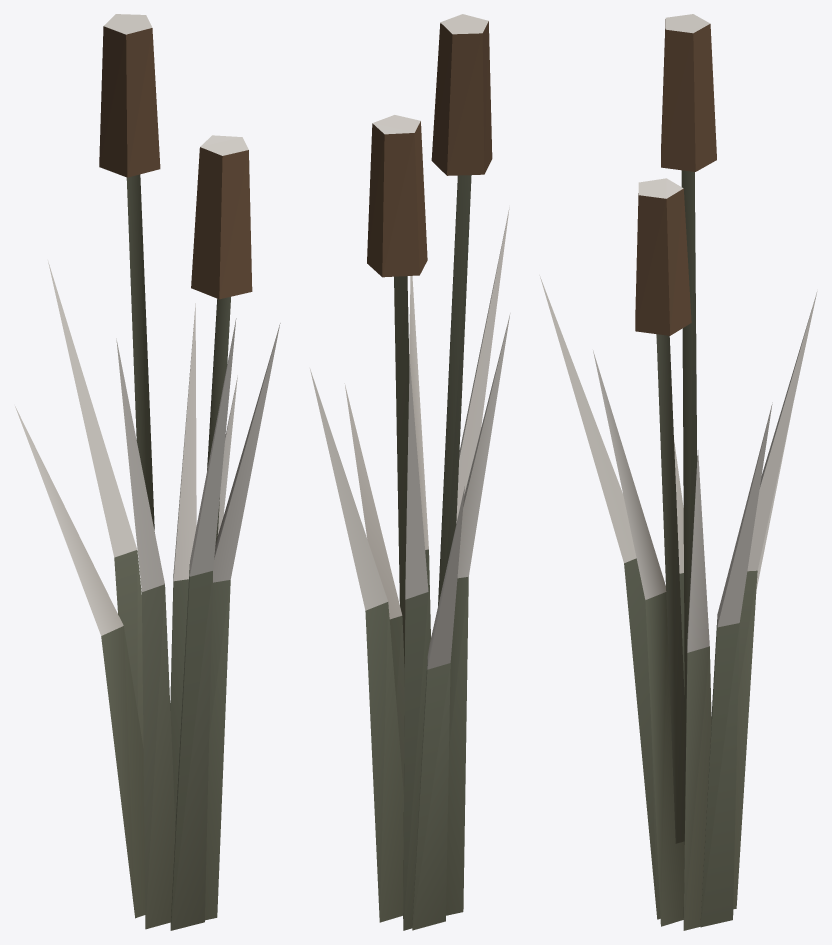
Rendered from frost_reeds.glb.
The picture shows the model from 3 angles, left to right: view 1: azimuth 30°, elevation 25°; view 2: azimuth 150°, elevation 25°; view 3: azimuth 270°, elevation 25°; orthographic projection. The views are drawn at different scales.
Parts seen in each view (by area): view 1: ca_frost_reeds; view 2: ca_frost_reeds; view 3: ca_frost_reeds.
Boxes of the visible parts, x1,y1,x2,y2 form: ca_frost_reeds: [15, 14, 280, 930]; ca_frost_reeds: [310, 14, 510, 930]; ca_frost_reeds: [539, 14, 817, 930].
Bounding box in the file's own units: 0.3076 × 1.54 × 0.448.
1 material, 1 textured.
